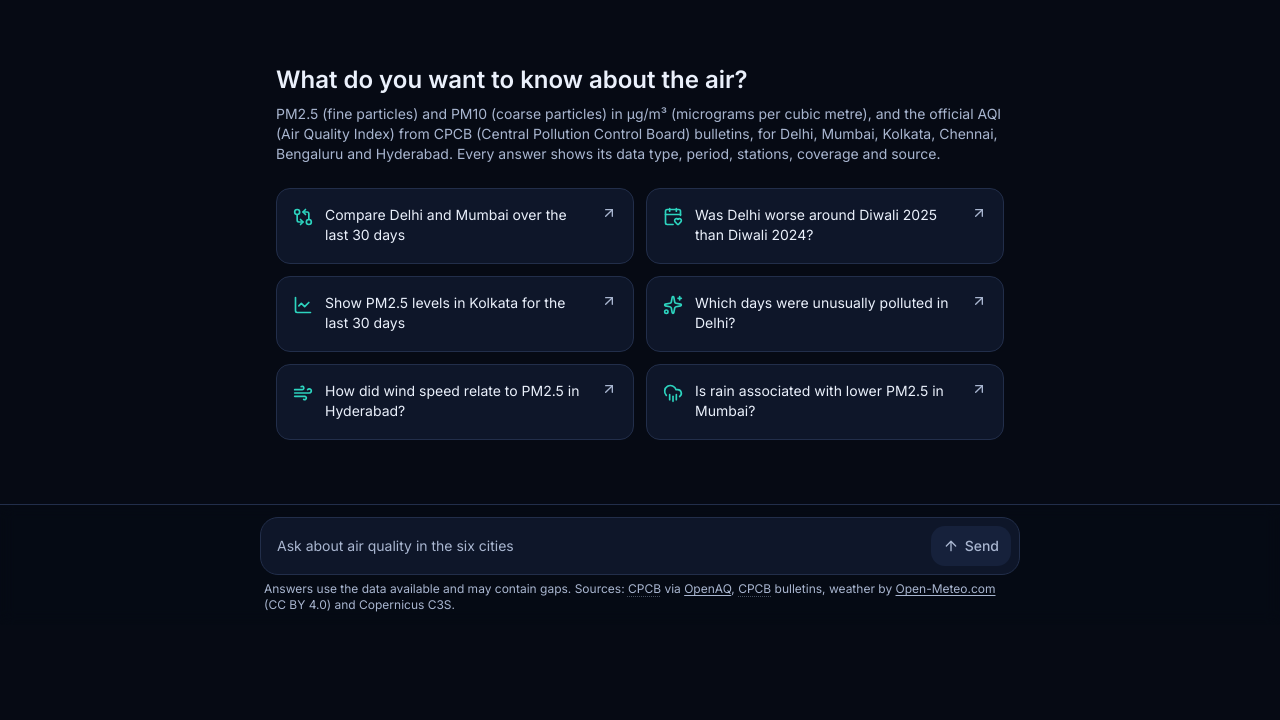
Test: Ask screen › quota reached: explains and offers saved answers
Type "Show PM2.5 in Delhi" into the text box named "Your question" at (596, 546), box x1=269 y1=526 x2=923 y2=566
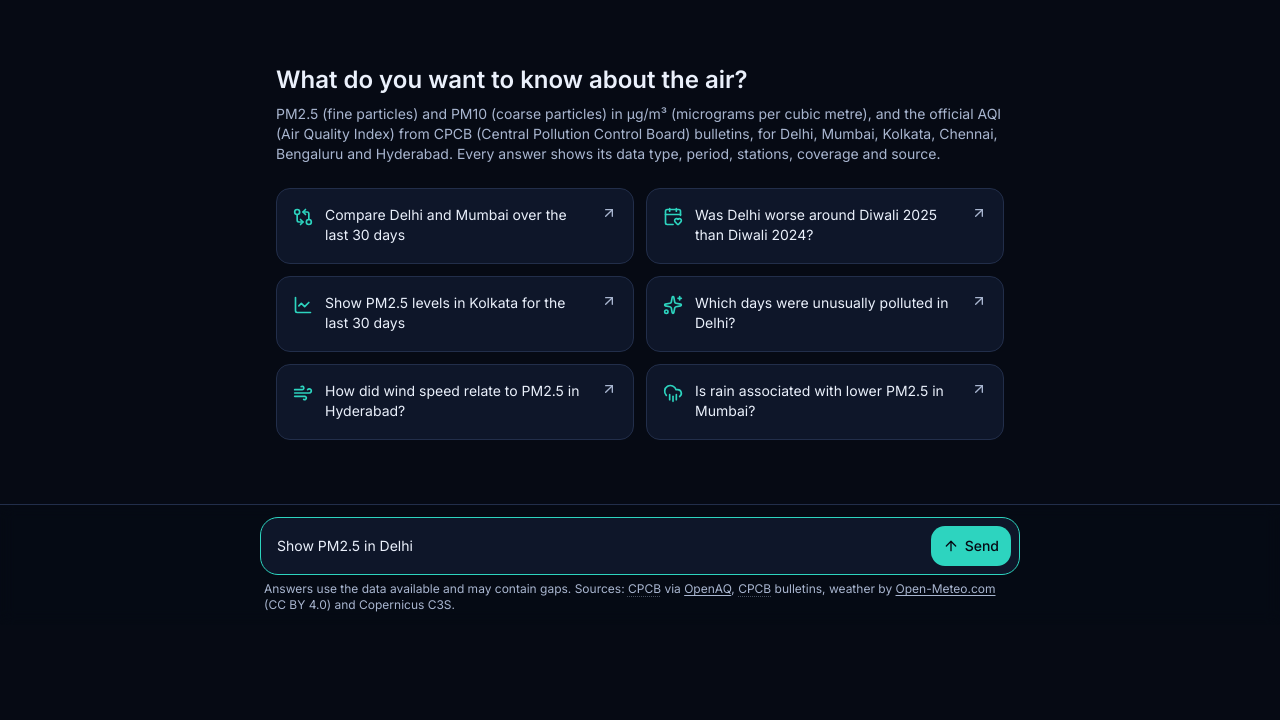
Press Enter
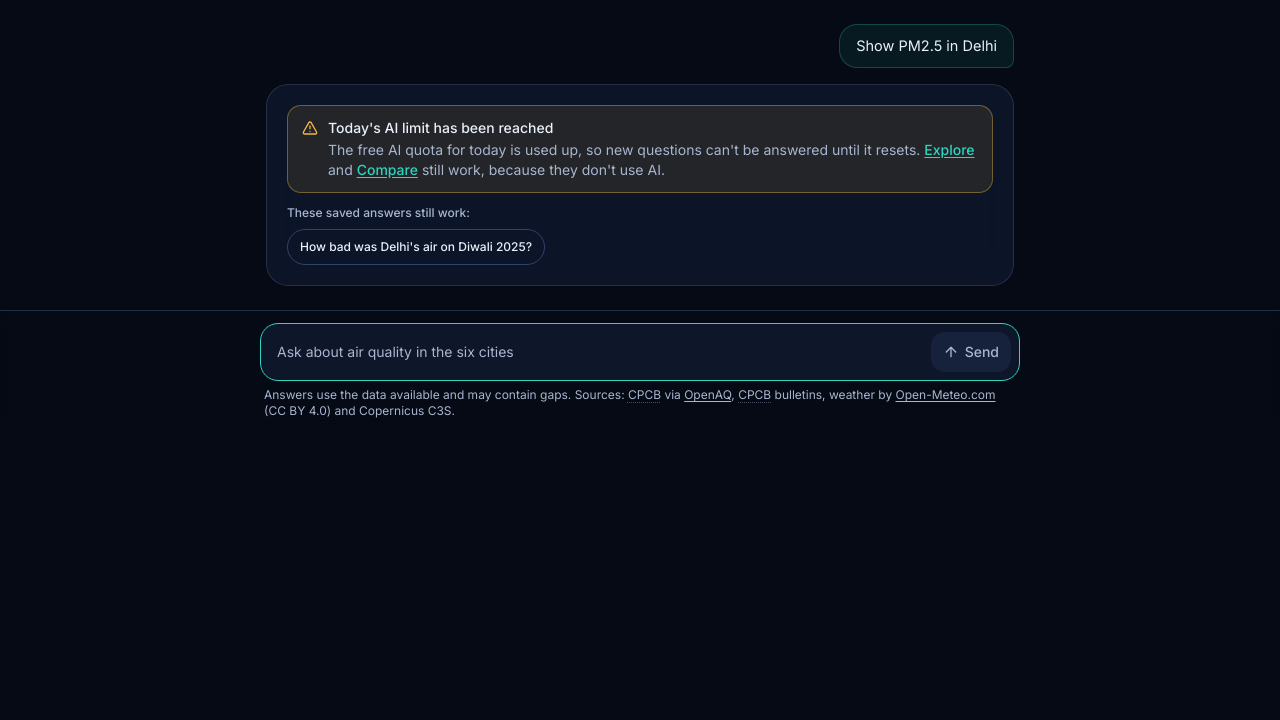
Result: the text "Today's AI limit has been reached" is shown at x1=328 y1=119 x2=553 y2=136
Result: the button "How bad was Delhi's air on Diwali 2025?" is shown at x1=287 y1=229 x2=545 y2=265
